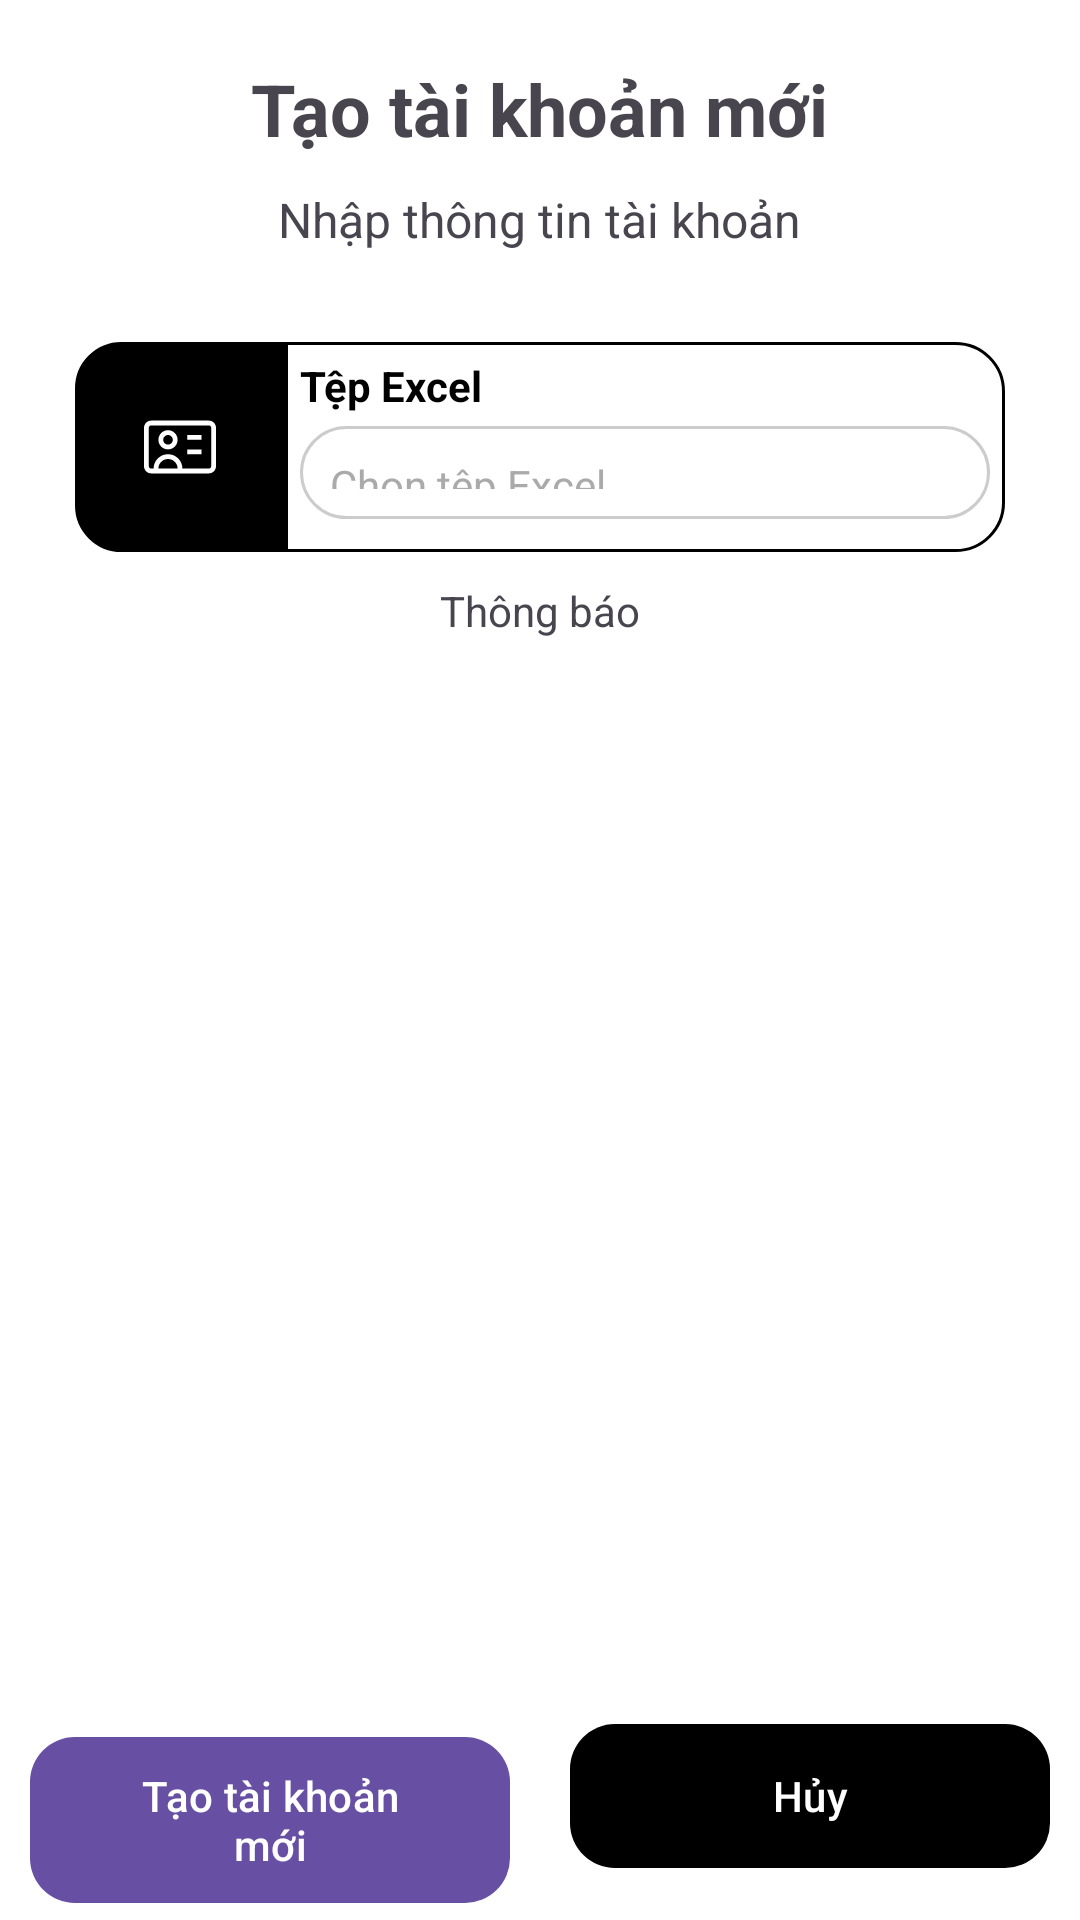

Icons on this 1080w x 1920h Android screen, each with its box as (x1, y1, x2, y2):
teenyicons id: (144, 420, 216, 474)
